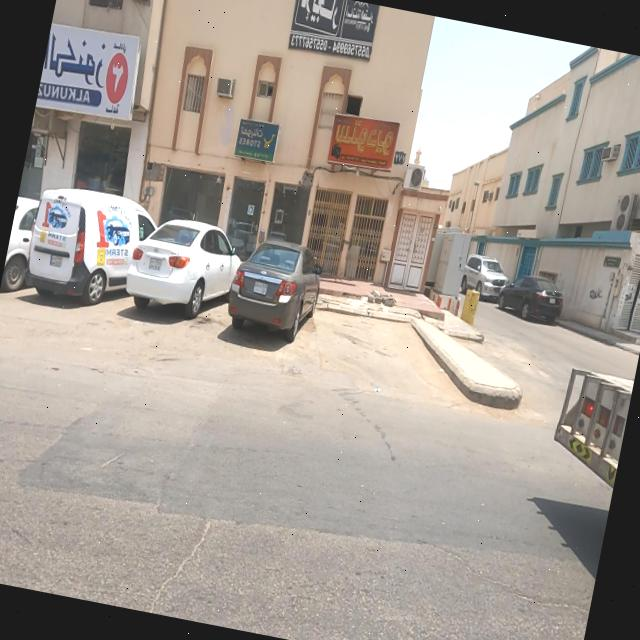Graffiti: (589, 284, 606, 308)
